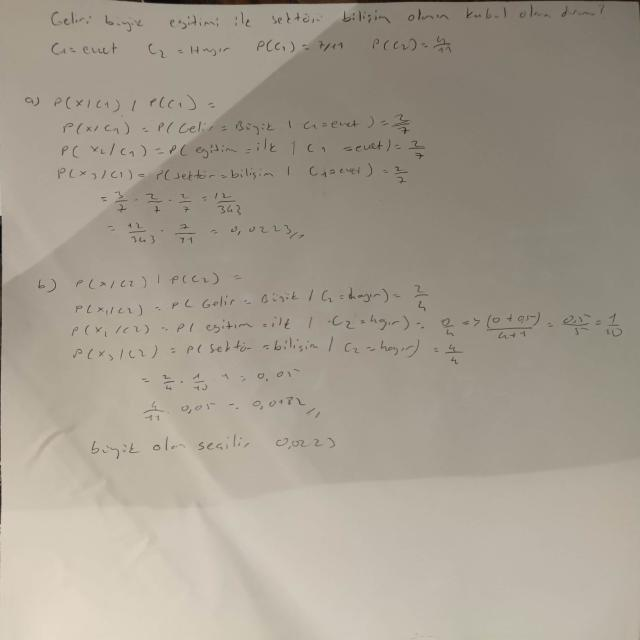math: (65, 268, 626, 368), (45, 88, 435, 188), (89, 191, 312, 256), (43, 35, 483, 65), (132, 370, 328, 425), (82, 432, 350, 470)
text: (42, 7, 612, 31)
